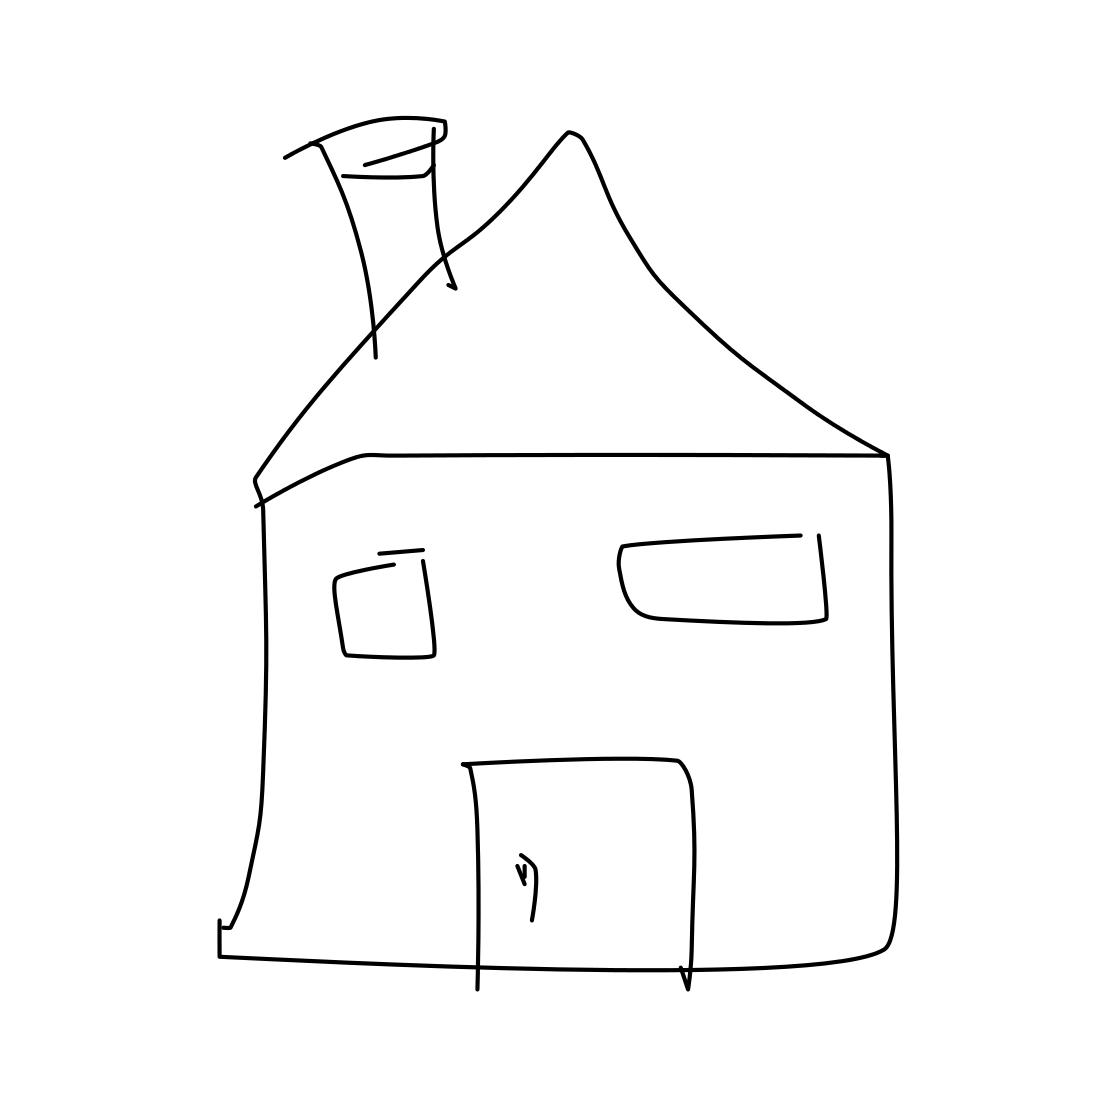House: (109, 74, 934, 1000)
